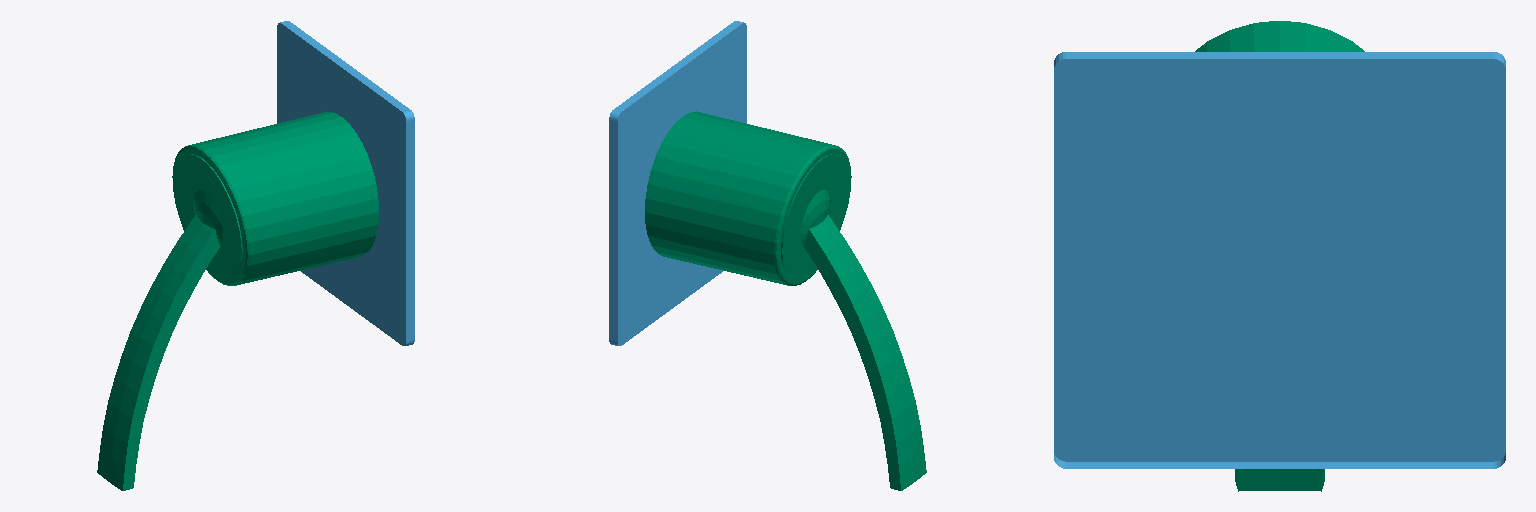
robot.urdf — partnet_e55b1f59cd50df54b362845c6edb57fc:
<?xml version="1.0" ?>
<robot name="partnet_e55b1f59cd50df54b362845c6edb57fc">
	<link name="base"/>
	<link name="link_0">
		<visual name="surface_base-4">
			<origin xyz="0 0 0"/>
			<geometry>
				<mesh filename="textured_objs/original-1.obj"/>
			</geometry>
		</visual>
		<collision>
			<origin xyz="0 0 0"/>
			<geometry>
				<mesh filename="textured_objs/original-1.obj"/>
			</geometry>
		</collision>
	</link>
	<joint name="joint_0" type="fixed">
		<origin rpy="1.570796326794897 0 -1.570796326794897" xyz="0 0 0"/>
		<child link="link_0"/>
		<parent link="base"/>
	</joint>
	<link name="link_1">
		<visual name="switch-2">
			<origin xyz="0.0006518335390091006 -0.06138649261732626 0"/>
			<geometry>
				<mesh filename="textured_objs/original-3.obj"/>
			</geometry>
		</visual>
		<visual name="switch-2">
			<origin xyz="0.0006518335390091006 -0.06138649261732626 0"/>
			<geometry>
				<mesh filename="textured_objs/original-4.obj"/>
			</geometry>
		</visual>
		<visual name="vertical_support-5">
			<origin xyz="0.0006518335390091006 -0.06138649261732626 0"/>
			<geometry>
				<mesh filename="textured_objs/original-2.obj"/>
			</geometry>
		</visual>
		<collision>
			<origin xyz="0.0006518335390091006 -0.06138649261732626 0"/>
			<geometry>
				<mesh filename="textured_objs/original-3.obj"/>
			</geometry>
		</collision>
		<collision>
			<origin xyz="0.0006518335390091006 -0.06138649261732626 0"/>
			<geometry>
				<mesh filename="textured_objs/original-4.obj"/>
			</geometry>
		</collision>
		<collision>
			<origin xyz="0.0006518335390091006 -0.06138649261732626 0"/>
			<geometry>
				<mesh filename="textured_objs/original-2.obj"/>
			</geometry>
		</collision>
	</link>
	<joint name="joint_1" type="continuous">
		<origin xyz="-0.0006518335390091006 0.06138649261732626 0"/>
		<axis xyz="0 0 1"/>
		<child link="link_1"/>
		<parent link="link_0"/>
	</joint>
</robot>

--- What the picture shows (computed from the rendered views, not written in the file) ---
Views: 3 orthographic renders of the robot side by side, from view 1: azimuth 30°, elevation 25°; view 2: azimuth 150°, elevation 25°; view 3: azimuth 270°, elevation 25°.
Model partnet_e55b1f59cd50df54b362845c6edb57fc with 3 links and 2 joints (1 continuous, 1 fixed), rooted at base, posed all joints at 0.
Visible links, largest first — view 1: link_1, link_0; view 2: link_1, link_0; view 3: link_0, link_1.
Link boxes in pixels (x1,y1,x2,y2): link_1: [97, 111, 378, 490]; link_0: [277, 21, 414, 345]; link_1: [645, 111, 926, 490]; link_0: [609, 21, 746, 345]; link_0: [1054, 52, 1505, 468]; link_1: [1195, 21, 1364, 491].
Bounding box of the posed robot: 0.8887 × 0.8241 × 1.26 m (x, y, z).
4 mesh visuals loaded from 4 distinct referenced files (4 OBJ).
